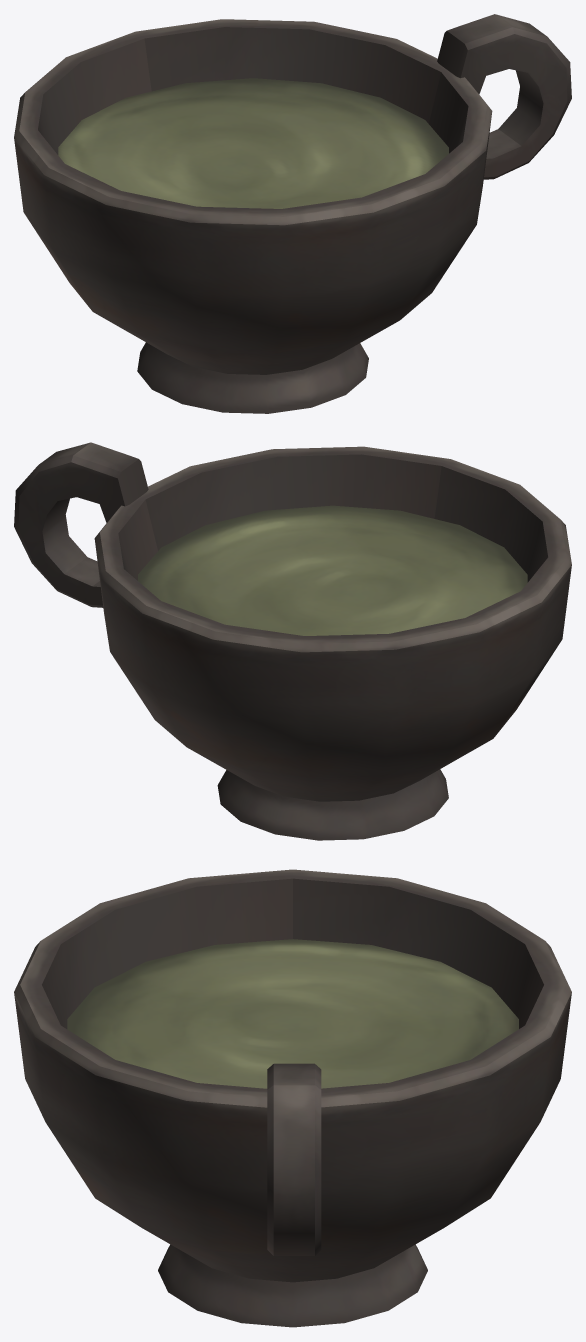
The model's file is Teacup.FBX.
3 views of the same model, one above another, from view 1: azimuth 30°, elevation 25°; view 2: azimuth 150°, elevation 25°; view 3: azimuth 270°, elevation 25° (orthographic). The views are drawn at different scales.
Visible parts, largest first — view 1: Teacup; view 2: Teacup; view 3: Teacup.
Part boxes in pixels (x1,y1,x2,y2): Teacup: [14, 14, 571, 413]; Teacup: [14, 442, 571, 840]; Teacup: [14, 869, 571, 1327].
Bounding box in the file's own units: 64.39 × 33.48 × 51.8.
